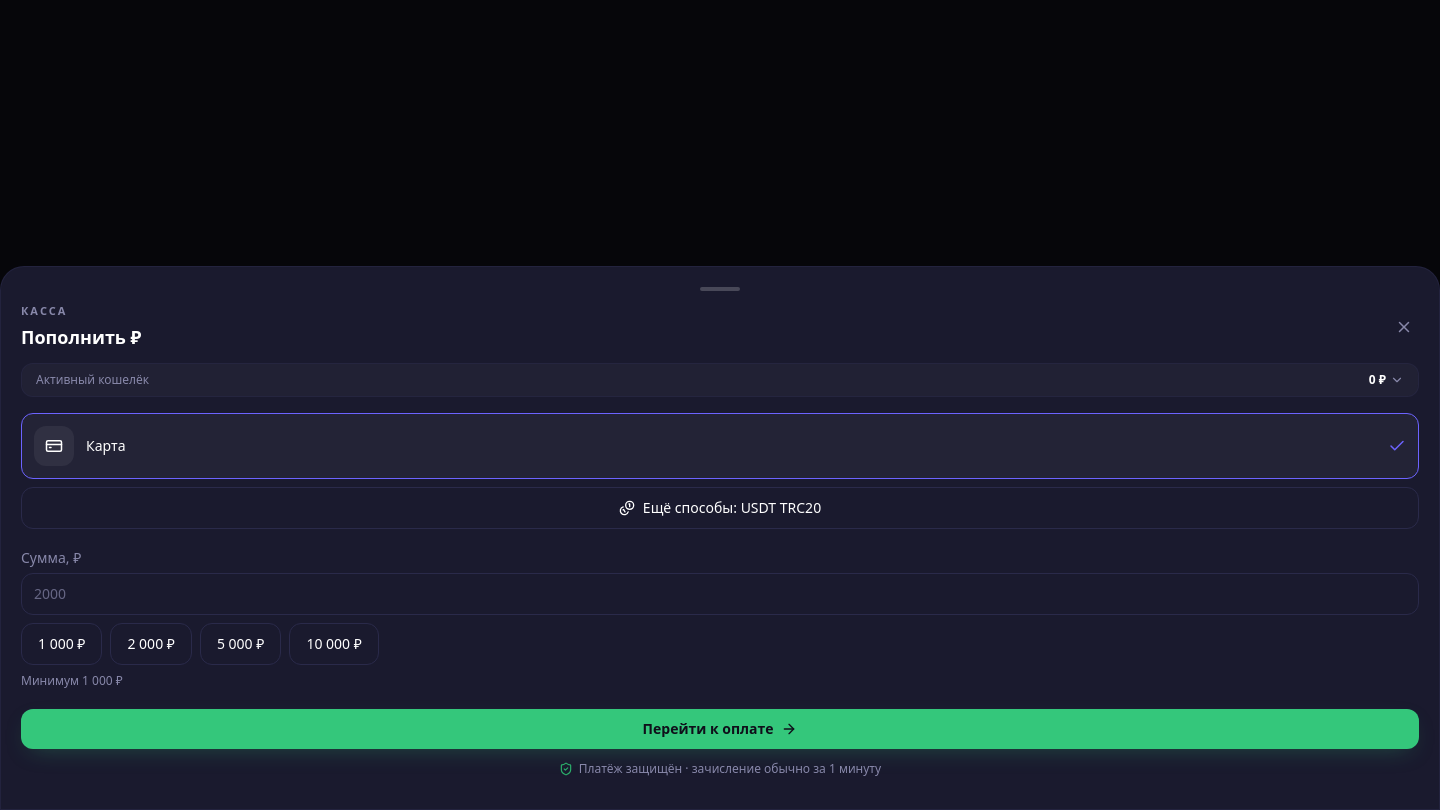
it: Валидация суммы кассы (фидбек вместо молчаливого return) › пустая сумма: подсказка у поля, API не вызывается
The width and height of the screenshot is (1440, 810).
Click the button "Перейти к оплате" at (720, 729), box [21,709,1419,749]
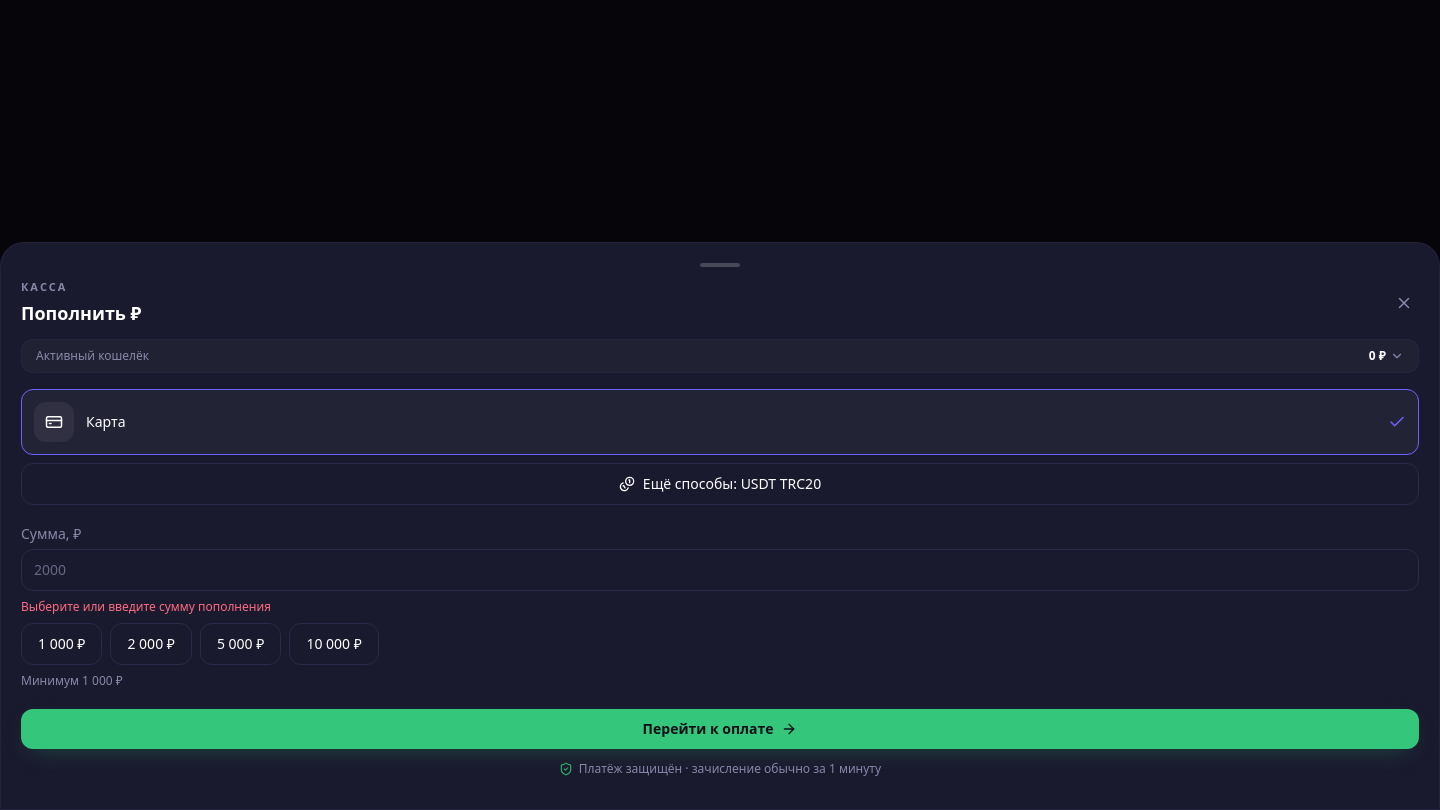
Expected: the text "Выберите или введите сумму пополнения" is shown, [21,598,271,615]
